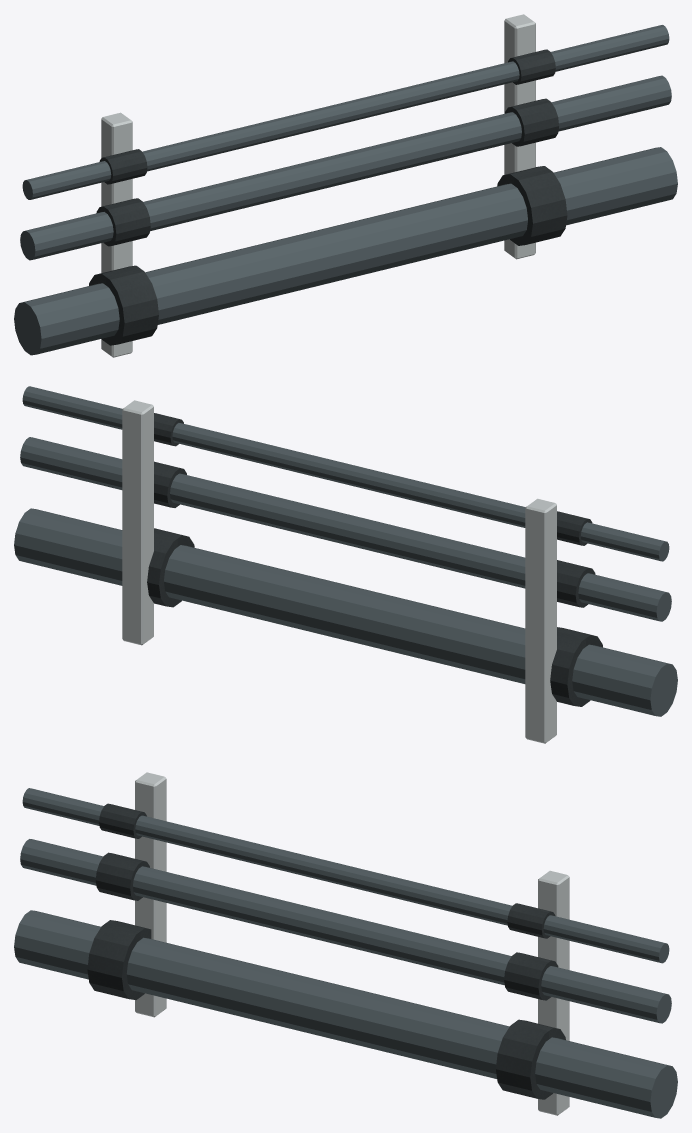
Rendered from PipeRun.glb.
The picture shows the model from 3 angles, top to bottom: view 1: azimuth 30°, elevation 25°; view 2: azimuth 150°, elevation 25°; view 3: azimuth 330°, elevation 25°; orthographic projection.
Visible parts, largest first — view 1: PipeRun__BlackenedSteel__mesh, PipeRun__Powdercoat__mesh, PipeRun__BrushedHardware__mesh; view 2: PipeRun__BlackenedSteel__mesh, PipeRun__BrushedHardware__mesh, PipeRun__Powdercoat__mesh; view 3: PipeRun__BlackenedSteel__mesh, PipeRun__Powdercoat__mesh, PipeRun__BrushedHardware__mesh.
Part boxes in pixels (x1,y1,x2,y2): PipeRun__BlackenedSteel__mesh: (14,25,677,355); PipeRun__Powdercoat__mesh: (89,49,567,345); PipeRun__BrushedHardware__mesh: (101,14,535,357); PipeRun__BlackenedSteel__mesh: (14,386,677,716); PipeRun__BrushedHardware__mesh: (122,400,556,743); PipeRun__Powdercoat__mesh: (147,413,602,706); PipeRun__BlackenedSteel__mesh: (14,788,677,1118); PipeRun__Powdercoat__mesh: (87,803,565,1099); PipeRun__BrushedHardware__mesh: (135,772,569,1115).
Size of the model in its own units: 1.2 by 0.42 by 0.1358.
Materials: 3 (1 with a texture image).
